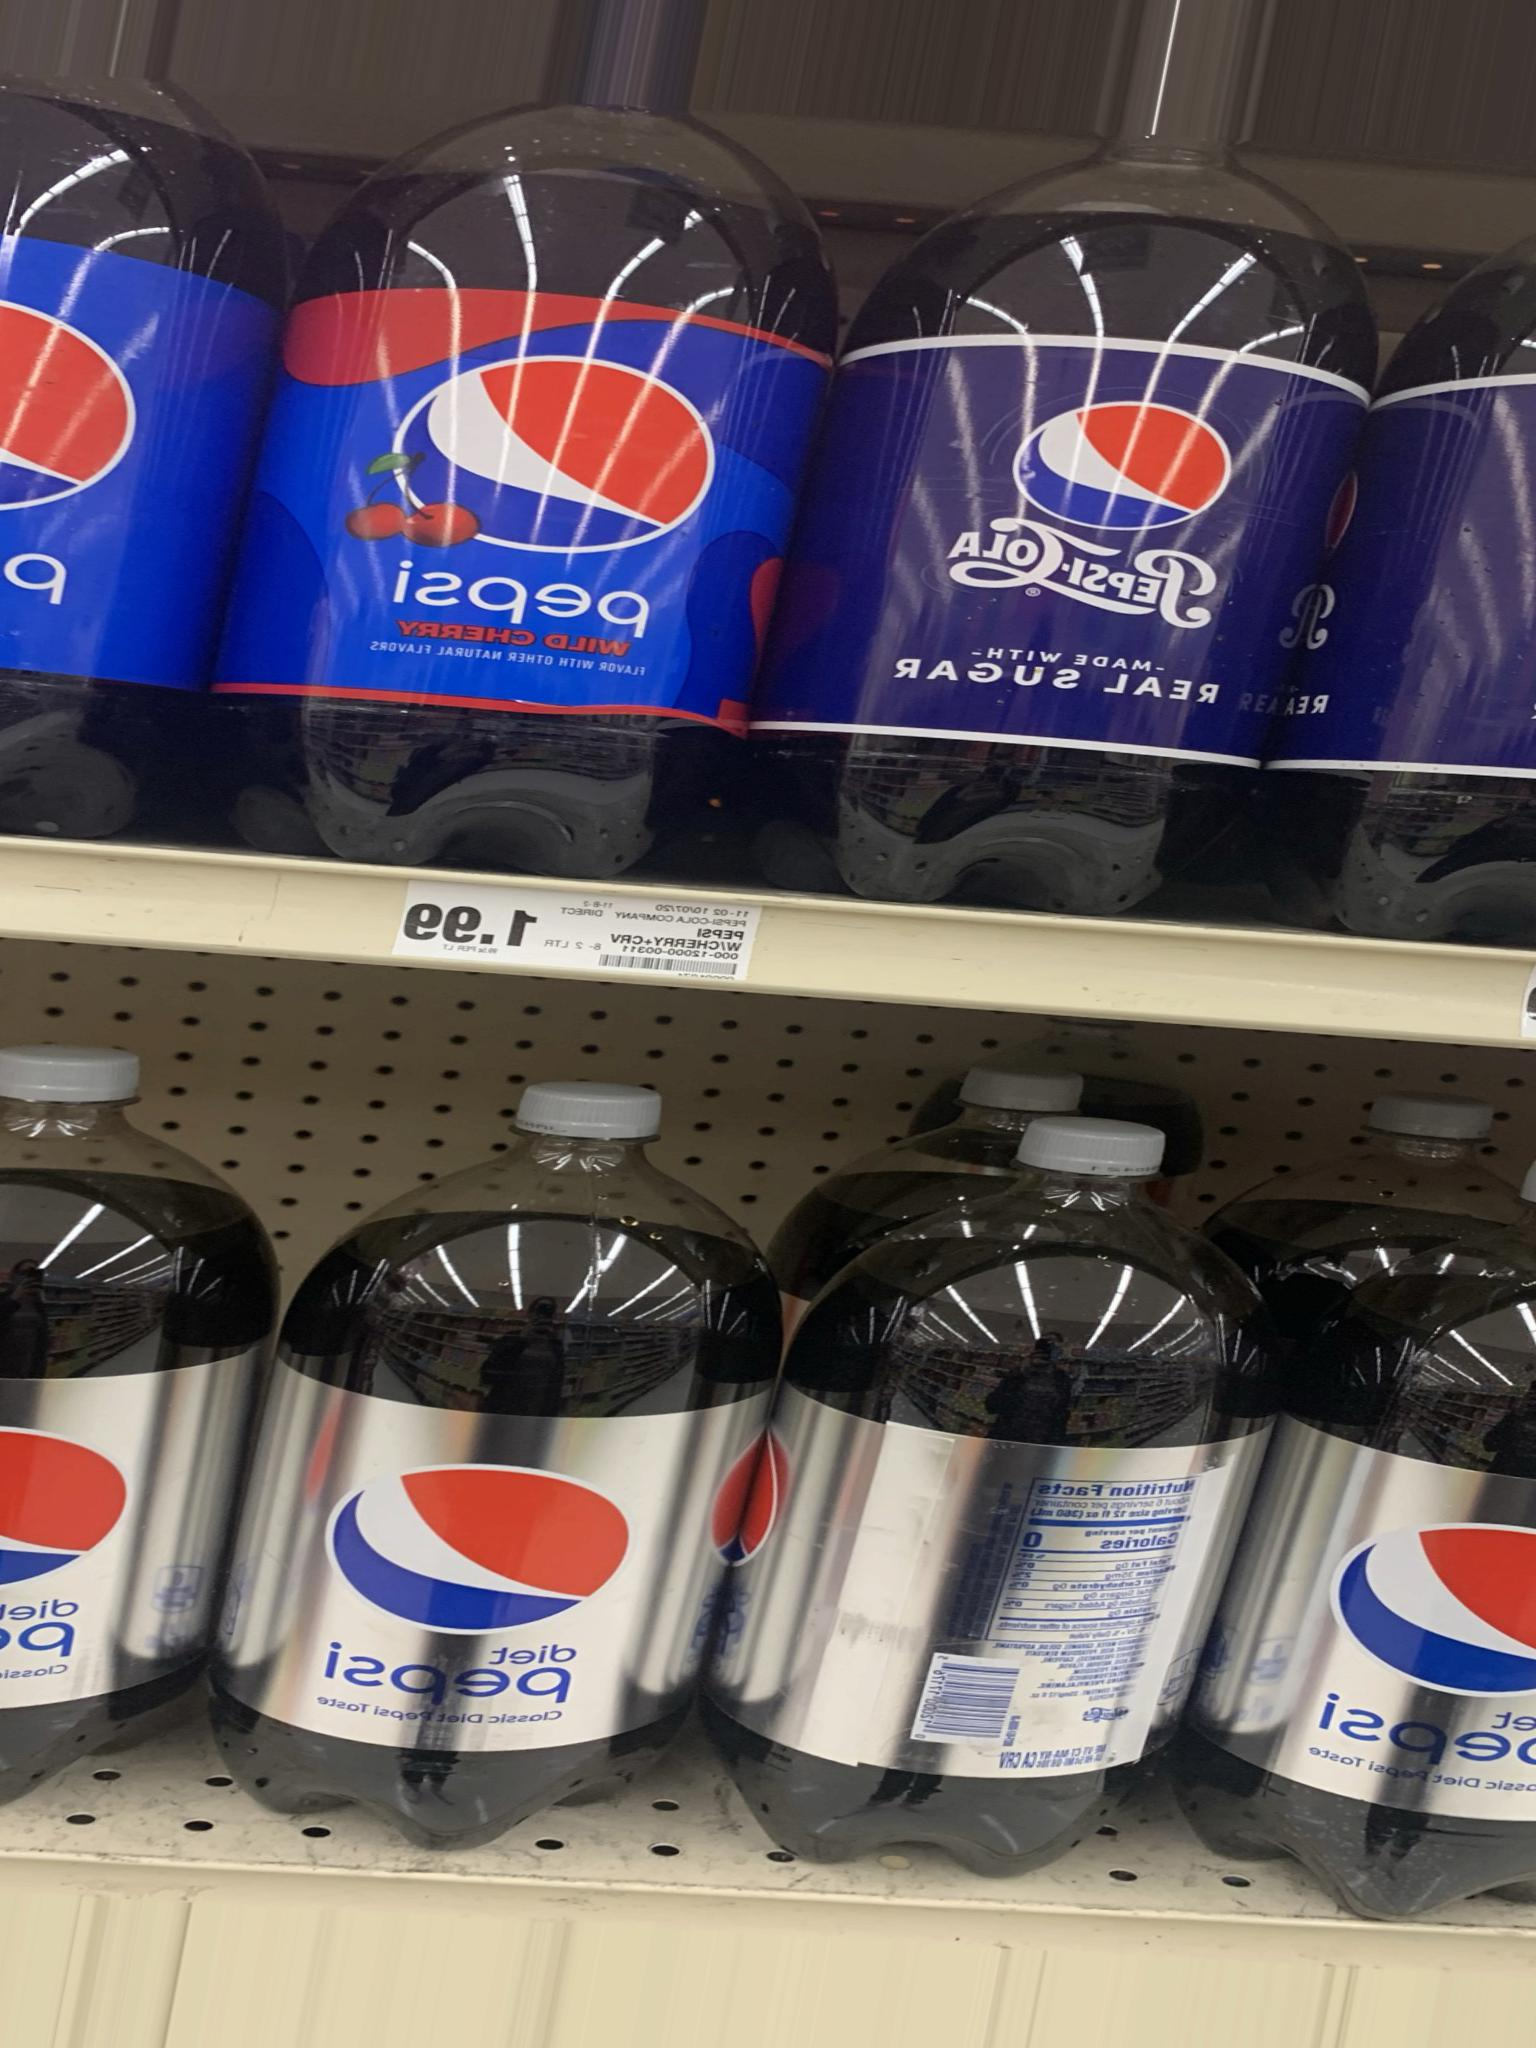diet pepsi soda: (839, 1184, 1194, 1866), (287, 1151, 671, 1769), (15, 1080, 207, 1811), (1357, 1247, 1536, 1925)
pepsi soda: (403, 111, 787, 885)
pepsi-cola soda: (992, 121, 1229, 893)
